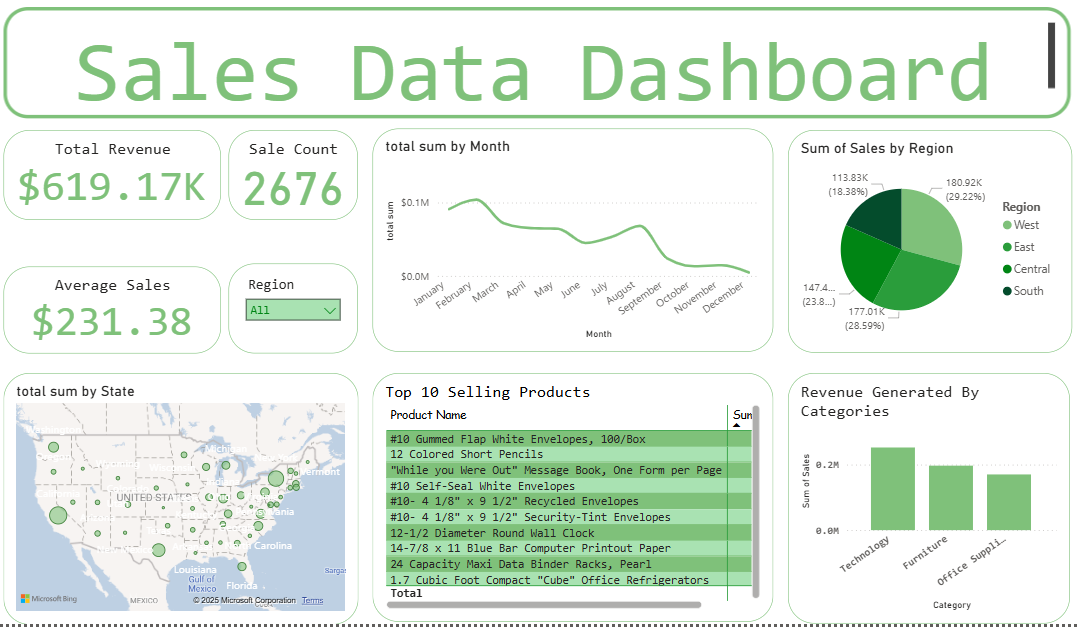

Layout of this report page (visuals, bound fields, positions):
{"tool":"powerbi","page":{"name":"Page 1","canvas":[1280,720],"ordinal":0},"visuals":[{"type":"textbox","box":[20.8,30.2,1258.6,145.5],"z":0},{"type":"textbox","box":[21.9,10.9,1226.6,128.1],"z":1000},{"type":"pieChart","fields":{"Category":["train2.Region"],"Y":["Sum(train2.Sales)"]},"box":[923.4,151.6,326.6,256.2],"z":2000},{"type":"columnChart","title":"Revenue Generated By Categories","fields":{"Category":["train2.Category"],"Y":["Sum(train2.Sales)"]},"box":[922.7,430.7,326.3,288.2],"z":3000},{"type":"card","title":"Total Revenue","fields":{"Values":["train2.total sum"]},"box":[21.9,151.6,250,103.1],"z":4000},{"type":"map","fields":{"Category":["train2.State"],"Size":["train2.total sum"]},"box":[21.9,431.2,407.8,289.1],"z":5000},{"type":"card","title":"Average Sales","fields":{"Values":["train2.average"]},"box":[21.9,307.8,250,100],"z":6000},{"type":"tableEx","title":"Top 10 Selling Products","fields":{"Values":["train2.Product Name","Sum(train2.Sales)"]},"box":[448.4,431.2,459.4,287.5],"z":7000},{"type":"card","title":"Sale Count","fields":{"Values":["train2.sale count"]},"box":[281.2,151.6,148.4,103.1],"z":8000},{"type":"lineChart","fields":{"Category":["train2.Order Date.Variation.Date Hierarchy.Month"],"Y":["train2.total sum"]},"box":[447.2,150.7,460.5,256.8],"z":9000},{"type":"slicer","fields":{"Values":["train2.Region"]},"box":[281.2,304.7,148.4,103.1],"z":10000}]}

Visuals, with their boxes on the page's 1280x720 design canvas (x1, y1, x2, y2). These are canvas units, not pixel positions in the 1080x628 screenshot, which may show the page scaled, cropped or inside an application window:
textbox: pyautogui.locateOnScreen(21, 30, 1279, 176)
textbox: pyautogui.locateOnScreen(22, 11, 1248, 139)
pieChart - train2.Region x Sum(train2.Sales): pyautogui.locateOnScreen(923, 152, 1250, 408)
"Revenue Generated By Categories" columnChart: pyautogui.locateOnScreen(923, 431, 1249, 719)
"Total Revenue" card: pyautogui.locateOnScreen(22, 152, 272, 255)
map - train2.State x train2.total sum: pyautogui.locateOnScreen(22, 431, 430, 720)
"Average Sales" card: pyautogui.locateOnScreen(22, 308, 272, 408)
"Top 10 Selling Products" tableEx: pyautogui.locateOnScreen(448, 431, 908, 719)
"Sale Count" card: pyautogui.locateOnScreen(281, 152, 430, 255)
lineChart - train2.Order Date.Variation.Date Hierarchy.Month x train2.total sum: pyautogui.locateOnScreen(447, 151, 908, 408)
slicer - train2.Region: pyautogui.locateOnScreen(281, 305, 430, 408)
